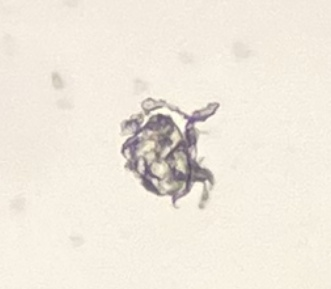microplastic: (118, 95, 225, 215)
